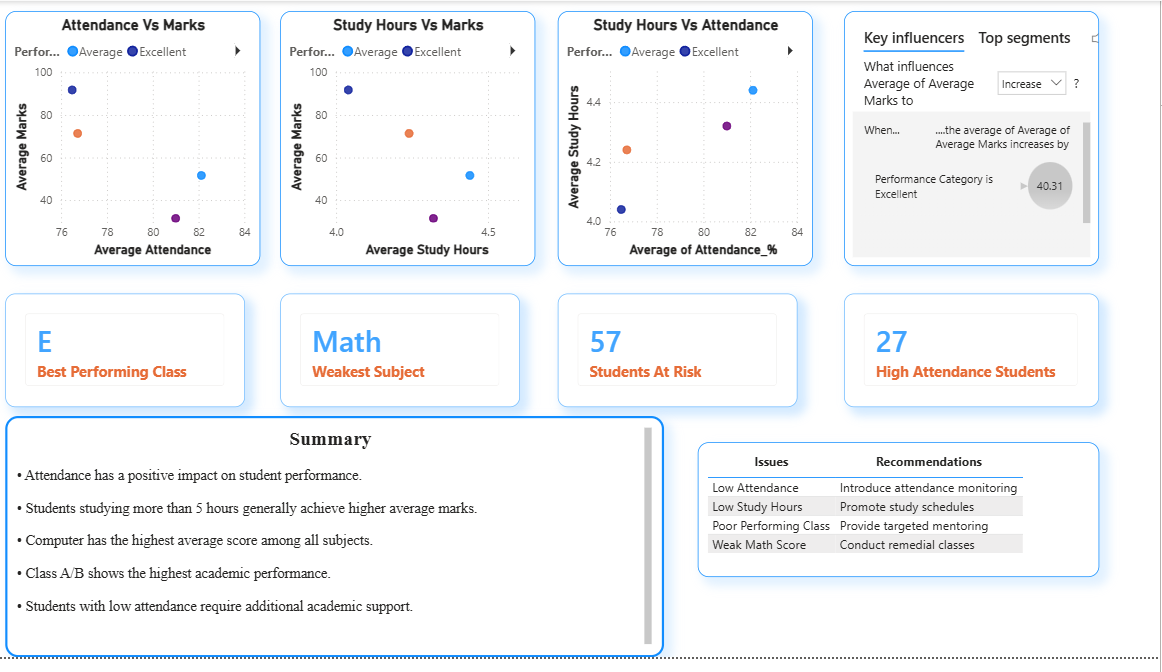

This screenshot's page, from the dashboard's own definition file:
{"tool":"powerbi","page":{"name":"Page 2","canvas":[1280,720],"ordinal":1},"visuals":[{"type":"scatterChart","title":"Attendance Vs Marks","fields":{"X":["Avg(Student_Performance_Balanced.Attendance_%)"],"Y":["Avg(Student_Performance_Balanced.Average Marks)"],"Series":["Student_Performance_Balanced.Performance Category"]},"box":[12.3,11,279.9,279.9],"z":0},{"type":"scatterChart","title":"Study Hours Vs Marks","fields":{"X":["Avg(Student_Performance_Balanced.Study_Hours)"],"Y":["Avg(Student_Performance_Balanced.Average Marks)"],"Series":["Student_Performance_Balanced.Performance Category"]},"box":[314.2,11,279.9,279.9],"z":1000},{"type":"scatterChart","title":"Study Hours Vs Attendance","fields":{"X":["Avg(Student_Performance_Balanced.Attendance_%)"],"Series":["Student_Performance_Balanced.Performance Category"],"Y":["Student_Performance_Balanced.Study_Hours"]},"box":[618.9,11,279.9,279.9],"z":2000},{"type":"keyDriversVisual","fields":{"Target":["Student_Performance_Balanced.Average Marks"],"ExplainBy":["Min(Student_Performance_Balanced.Attendance_%)","Avg(Student_Performance_Balanced.Study_Hours)","Student_Performance_Balanced.Class","Student_Performance_Balanced.Performance Category"]},"box":[933.1,11,279.9,279.9],"z":3000},{"type":"cardVisual","fields":{"Data":["Student_Performance_Balanced.Best Performing Class"]},"box":[12.3,321.1,263.5,124.9],"z":4000},{"type":"cardVisual","fields":{"Data":["Student_Performance_Balanced.Weakest Subject"]},"box":[314.2,321.1,263.5,124.9],"z":5000},{"type":"cardVisual","fields":{"Data":["Student_Performance_Balanced.Students At Risk"]},"box":[618.9,321.1,263.5,124.9],"z":6000},{"type":"cardVisual","fields":{"Data":["Student_Performance_Balanced.High Attendance Students"]},"box":[933.1,321.1,279.9,124.9],"z":7000},{"type":"tableEx","fields":{"Values":["Table.Issues","Table.Recommendations"]},"box":[772.6,484.4,440.5,148.2],"z":8000},{"type":"textbox","box":[12.3,455.6,723.2,264.8],"z":8001}]}

Visuals, with their boxes in screenshot pixels (x1, y1, x2, y2), scaled from the page's 1280x720 canvas onto the 1162x672 screenshot:
"Attendance Vs Marks" scatterChart: (left=11, top=10, right=265, bottom=272)
"Study Hours Vs Marks" scatterChart: (left=285, top=10, right=539, bottom=272)
"Study Hours Vs Attendance" scatterChart: (left=562, top=10, right=816, bottom=272)
keyDriversVisual - Student_Performance_Balanced.Average Marks x Min(Student_Performance_Balanced.Attendance_%): (left=847, top=10, right=1101, bottom=272)
cardVisual - Student_Performance_Balanced.Best Performing Class: (left=11, top=300, right=250, bottom=416)
cardVisual - Student_Performance_Balanced.Weakest Subject: (left=285, top=300, right=524, bottom=416)
cardVisual - Student_Performance_Balanced.Students At Risk: (left=562, top=300, right=801, bottom=416)
cardVisual - Student_Performance_Balanced.High Attendance Students: (left=847, top=300, right=1101, bottom=416)
tableEx - Table.Issues x Table.Recommendations: (left=701, top=452, right=1101, bottom=590)
textbox: (left=11, top=425, right=668, bottom=671)
